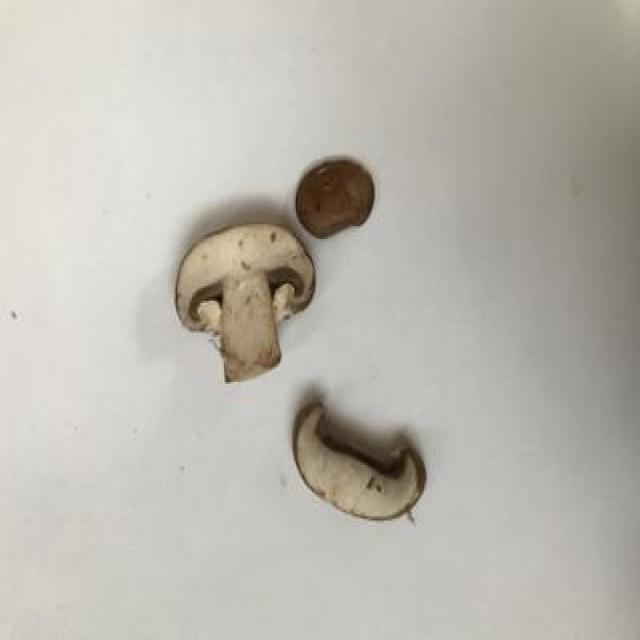compost: (176, 135, 474, 540)
